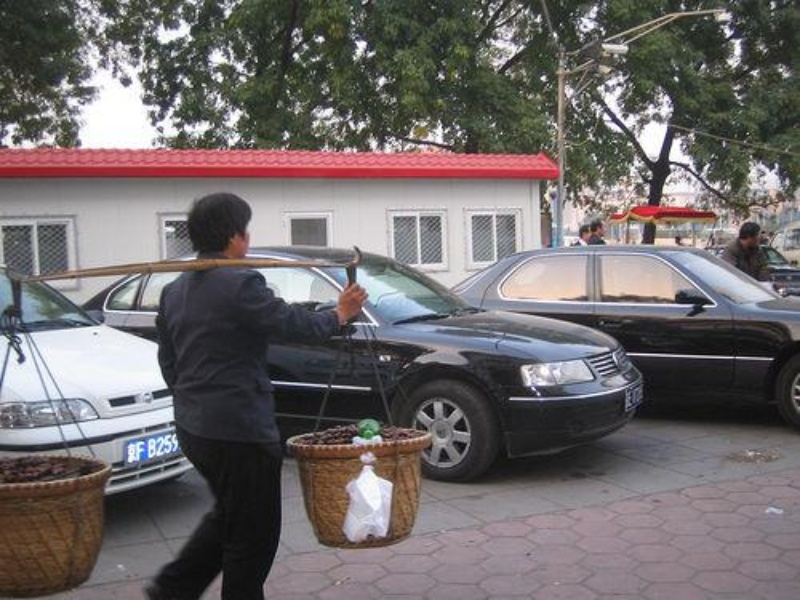hands: (336, 280, 370, 320)
